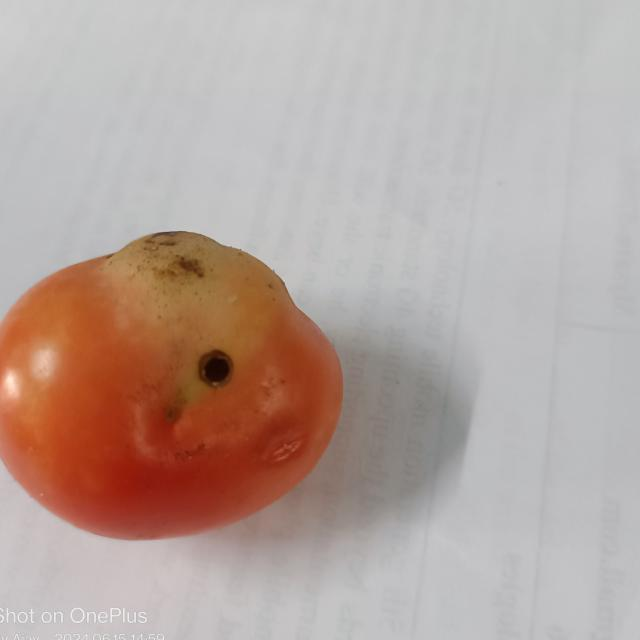fruitworm_bore: (192, 348, 236, 392)
